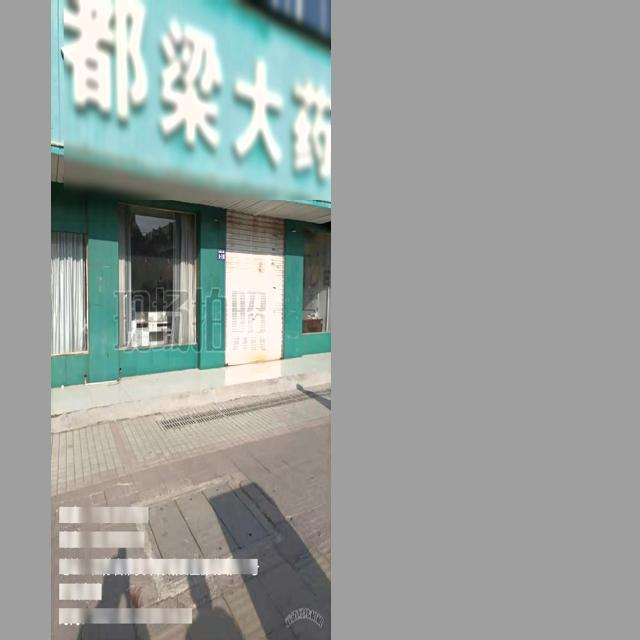good: (139, 475, 275, 590)
